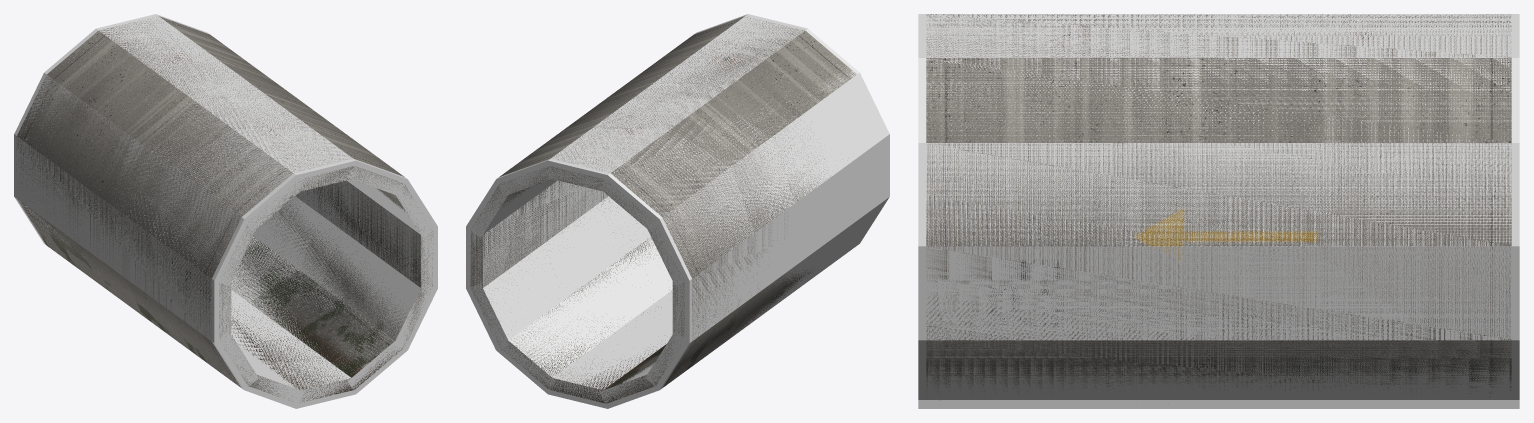
File: Kit_Lot_Pipe_01.glb
The picture shows the model from 3 angles, left to right: view 1: azimuth 30°, elevation 25°; view 2: azimuth 150°, elevation 25°; view 3: azimuth 270°, elevation 25°; orthographic projection. The views are drawn at different scales.
Parts seen in each view (by area): view 1: Kit_Lot_Pipe_01_LOD0, COL_Kit_Lot_Pipe_01_6, COL_Kit_Lot_Pipe_01_3, COL_Kit_Lot_Pipe_01_11, COL_Kit_Lot_Pipe_01_5, COL_Kit_Lot_Pipe_01_4, COL_Kit_Lot_Pipe_01_0, COL_Kit_Lot_Pipe_01_9, COL_Kit_Lot_Pipe_01_10, COL_Kit_Lot_Pipe_01_1, COL_Kit_Lot_Pipe_01_8, COL_Kit_Lot_Pipe_01_7 (+1 smaller); view 2: Kit_Lot_Pipe_01_LOD0, COL_Kit_Lot_Pipe_01_5, COL_Kit_Lot_Pipe_01_6, COL_Kit_Lot_Pipe_01_3, COL_Kit_Lot_Pipe_01_11, COL_Kit_Lot_Pipe_01_10, COL_Kit_Lot_Pipe_01_0, COL_Kit_Lot_Pipe_01_4, COL_Kit_Lot_Pipe_01_9, COL_Kit_Lot_Pipe_01_7, COL_Kit_Lot_Pipe_01_1, COL_Kit_Lot_Pipe_01_2 (+1 smaller); view 3: Kit_Lot_Pipe_01_LOD0, COL_Kit_Lot_Pipe_01_1, COL_Kit_Lot_Pipe_01_0, COL_Kit_Lot_Pipe_01_11, COL_Kit_Lot_Pipe_01_3, COL_Kit_Lot_Pipe_01_2, COL_Kit_Lot_Pipe_01_10.
Boxes of the visible parts, x1=… form: Kit_Lot_Pipe_01_LOD0: x1=16, y1=16, x2=433, y2=401; COL_Kit_Lot_Pipe_01_6: x1=14, y1=134, x2=231, y2=343; COL_Kit_Lot_Pipe_01_3: x1=96, y1=14, x2=355, y2=192; COL_Kit_Lot_Pipe_01_11: x1=253, y1=196, x2=437, y2=349; COL_Kit_Lot_Pipe_01_5: x1=14, y1=73, x2=257, y2=285; COL_Kit_Lot_Pipe_01_4: x1=44, y1=29, x2=302, y2=231; COL_Kit_Lot_Pipe_01_0: x1=295, y1=180, x2=437, y2=292; COL_Kit_Lot_Pipe_01_9: x1=231, y1=290, x2=355, y2=408; COL_Kit_Lot_Pipe_01_10: x1=231, y1=236, x2=407, y2=393; COL_Kit_Lot_Pipe_01_1: x1=347, y1=179, x2=437, y2=238; COL_Kit_Lot_Pipe_01_8: x1=237, y1=344, x2=304, y2=408; COL_Kit_Lot_Pipe_01_7: x1=14, y1=197, x2=258, y2=390; Kit_Lot_Pipe_01_LOD0: x1=470, y1=16, x2=856, y2=403; COL_Kit_Lot_Pipe_01_5: x1=646, y1=73, x2=889, y2=285; COL_Kit_Lot_Pipe_01_6: x1=672, y1=134, x2=889, y2=343; COL_Kit_Lot_Pipe_01_3: x1=548, y1=14, x2=807, y2=192; COL_Kit_Lot_Pipe_01_11: x1=466, y1=196, x2=650, y2=349; COL_Kit_Lot_Pipe_01_10: x1=496, y1=236, x2=672, y2=393; COL_Kit_Lot_Pipe_01_0: x1=466, y1=180, x2=608, y2=292; COL_Kit_Lot_Pipe_01_4: x1=600, y1=29, x2=859, y2=231; COL_Kit_Lot_Pipe_01_9: x1=548, y1=290, x2=672, y2=408; COL_Kit_Lot_Pipe_01_7: x1=645, y1=197, x2=889, y2=390; COL_Kit_Lot_Pipe_01_1: x1=466, y1=179, x2=556, y2=237; COL_Kit_Lot_Pipe_01_2: x1=496, y1=14, x2=747, y2=195; Kit_Lot_Pipe_01_LOD0: x1=926, y1=14, x2=1511, y2=397; COL_Kit_Lot_Pipe_01_1: x1=918, y1=143, x2=1519, y2=246; COL_Kit_Lot_Pipe_01_0: x1=918, y1=246, x2=1519, y2=340; COL_Kit_Lot_Pipe_01_11: x1=918, y1=340, x2=1519, y2=399; COL_Kit_Lot_Pipe_01_3: x1=918, y1=14, x2=1519, y2=57; COL_Kit_Lot_Pipe_01_2: x1=918, y1=58, x2=1519, y2=142; COL_Kit_Lot_Pipe_01_10: x1=918, y1=400, x2=1519, y2=408.
Size of what is drawn, in the model's own units: 5.8 by 5.8 by 9.
1 material, 1 textured.
